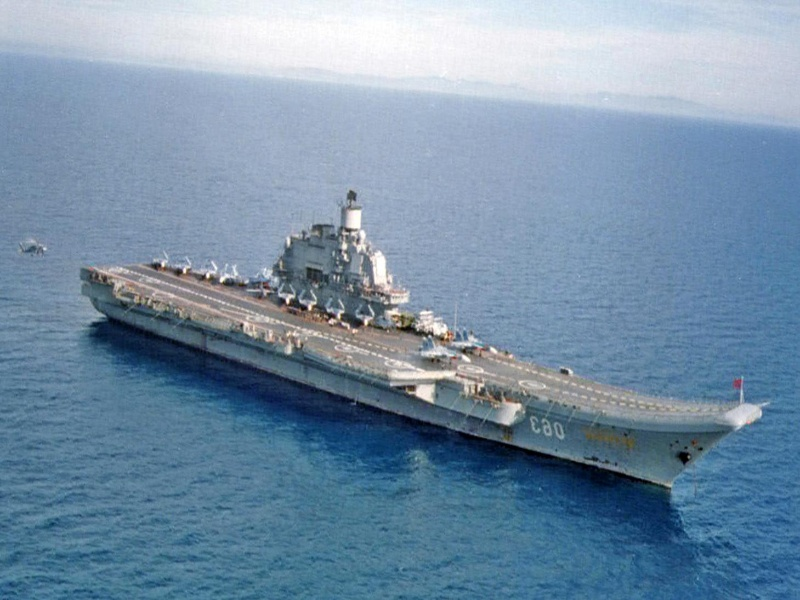carrier: (104, 202, 766, 490)
